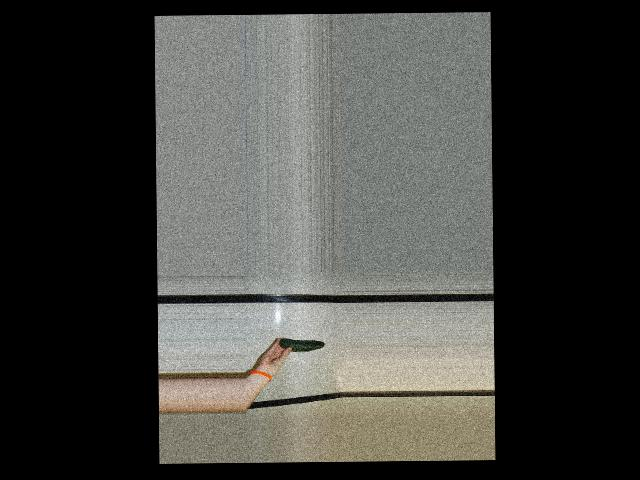cucumber: (278, 337, 325, 351)
